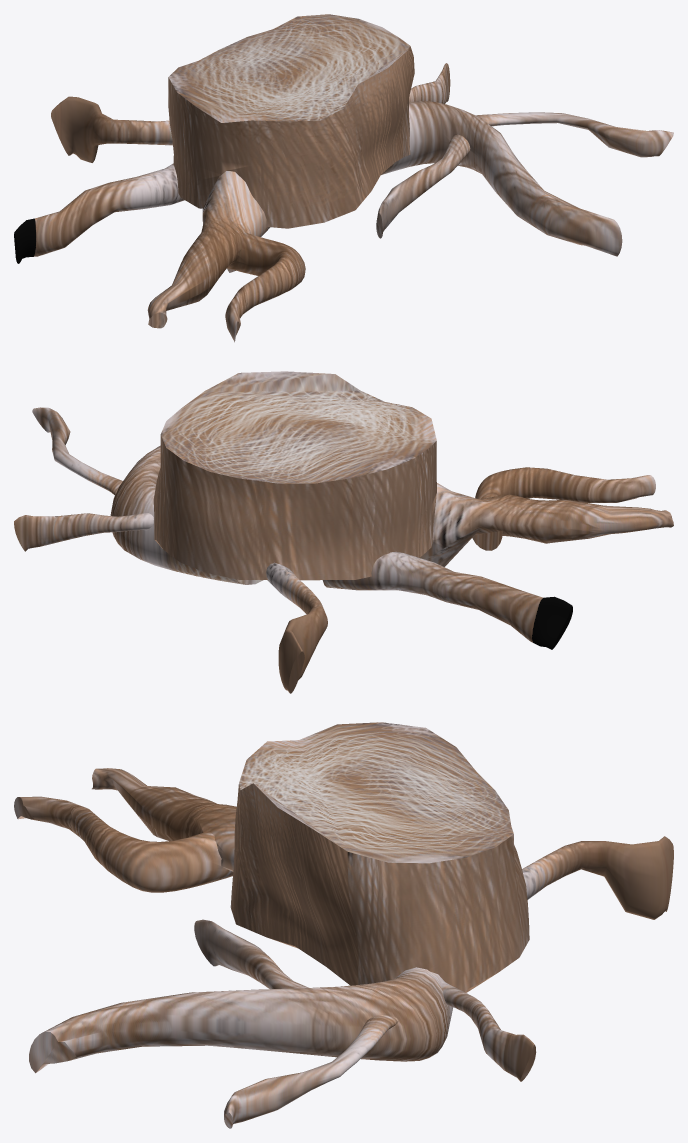
Rendered from tree2.FBX.
The picture shows the model from 3 angles, top to bottom: view 1: azimuth 30°, elevation 25°; view 2: azimuth 150°, elevation 25°; view 3: azimuth 270°, elevation 25°; orthographic projection. The views are drawn at different scales.
Visible parts, largest first — view 1: Cylinder016; view 2: Cylinder016; view 3: Cylinder016.
Part boxes in pixels (x1,y1,x2,y2): Cylinder016: (14, 14, 673, 342); Cylinder016: (14, 371, 673, 693); Cylinder016: (14, 722, 673, 1128).
Bounding box in the file's own units: 154 × 43.39 × 119.
1 material, 1 textured.
